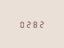eight: (32, 19, 38, 27)
two: (25, 20, 31, 28), (39, 19, 45, 27)
zero: (18, 20, 24, 28)
